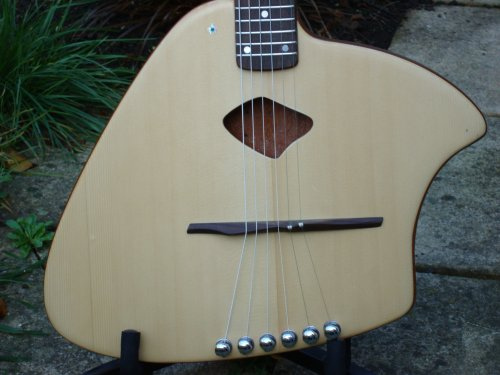guitar: (44, 4, 485, 362)
